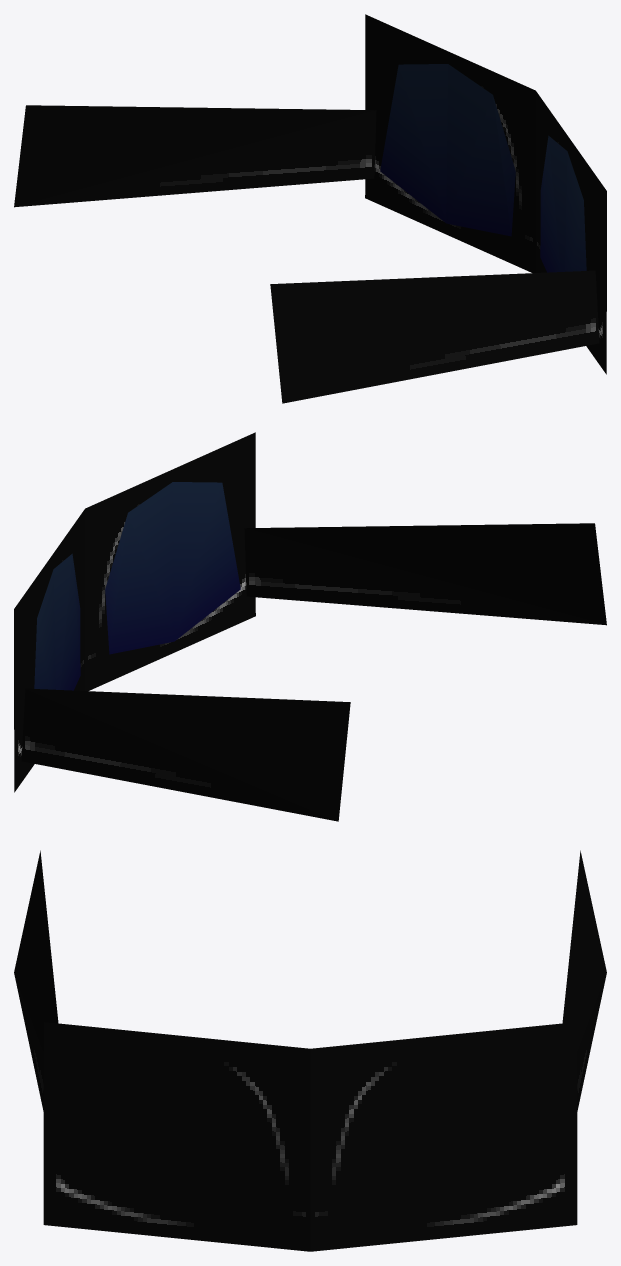
The model's file is ma_glass1.dae.
The picture shows the model from 3 angles, top to bottom: view 1: azimuth 30°, elevation 25°; view 2: azimuth 150°, elevation 25°; view 3: azimuth 270°, elevation 25°; orthographic projection. The views are drawn at different scales.
Visible parts, largest first — view 1: m0, m1; view 2: m0, m1; view 3: m0.
Boxes of the visible parts, box(x1,y1,x2,y2) form: m0: box(14, 14, 606, 403); m1: box(380, 64, 586, 272); m0: box(14, 432, 606, 821); m1: box(34, 482, 240, 690); m0: box(14, 850, 606, 1251).
Size of the model in its own units: 41.63 by 18.86 by 49.9.
2 materials, 1 textured.
